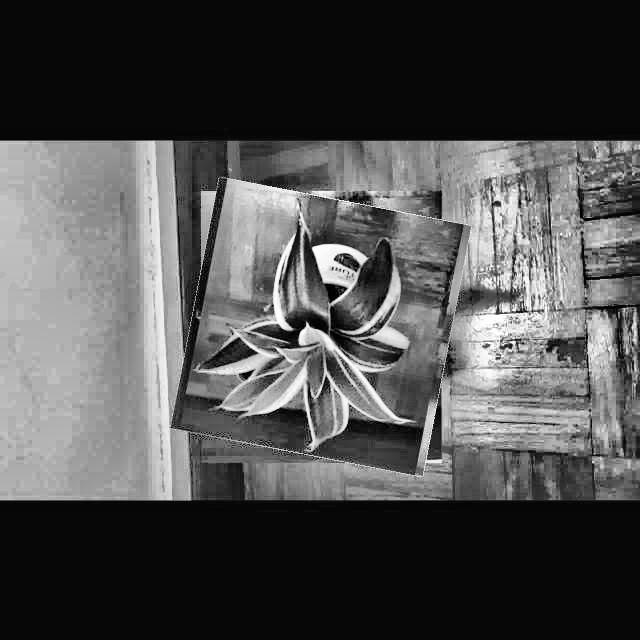plants: (182, 188, 460, 466)
